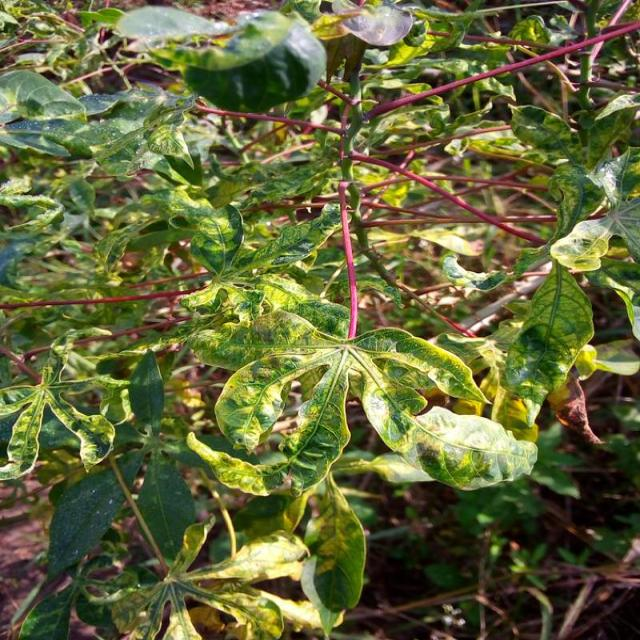cassava leaf: (1, 1, 638, 637), (148, 8, 327, 116)
